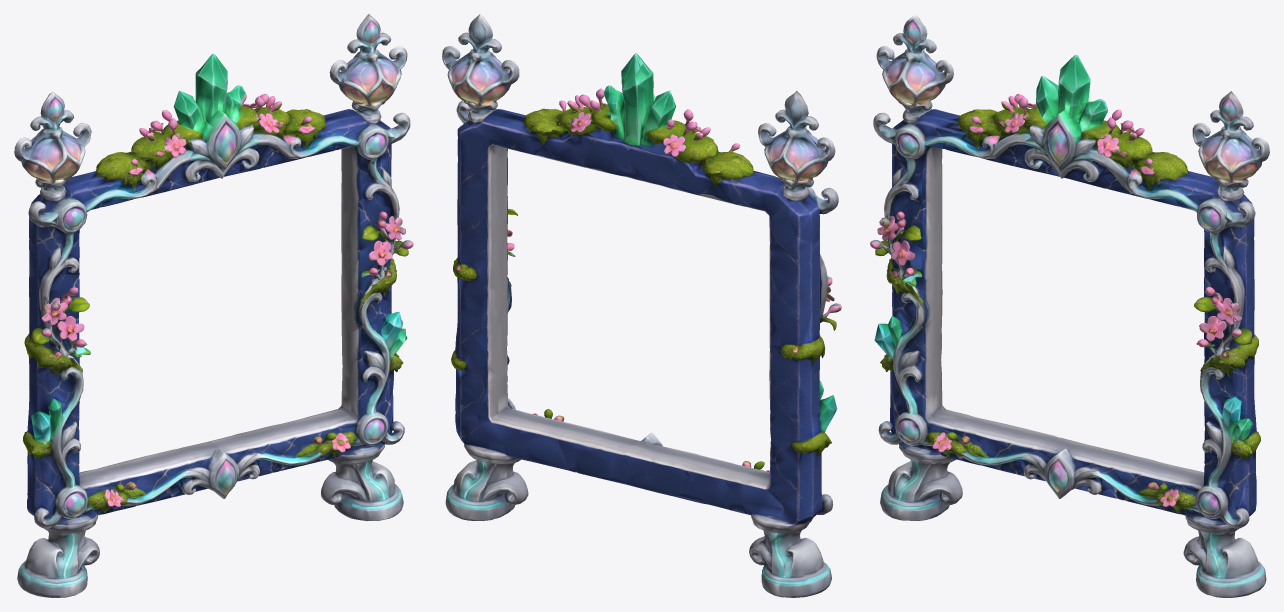
Rendered from gem-loom.medium.glb.
3 views of the same model, side by side, from view 1: azimuth 30°, elevation 25°; view 2: azimuth 150°, elevation 25°; view 3: azimuth 330°, elevation 25° (orthographic).
Visible parts, largest first — view 1: tripo_node_3b56d507-21ef-4f82-9107-b6b0f892a38d; view 2: tripo_node_3b56d507-21ef-4f82-9107-b6b0f892a38d; view 3: tripo_node_3b56d507-21ef-4f82-9107-b6b0f892a38d.
Part boxes in pixels (x1=…): tripo_node_3b56d507-21ef-4f82-9107-b6b0f892a38d: x1=14, y1=14, x2=413, y2=597; tripo_node_3b56d507-21ef-4f82-9107-b6b0f892a38d: x1=442, y1=14, x2=841, y2=597; tripo_node_3b56d507-21ef-4f82-9107-b6b0f892a38d: x1=870, y1=14, x2=1269, y2=597.
Size of the model in its own units: 3.5 by 4.19 by 0.6126.
1 material, 1 textured.
